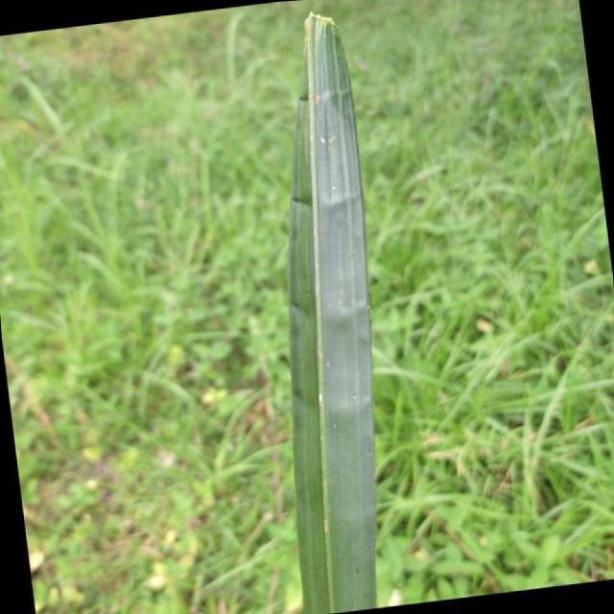Boron: (289, 11, 376, 614)
